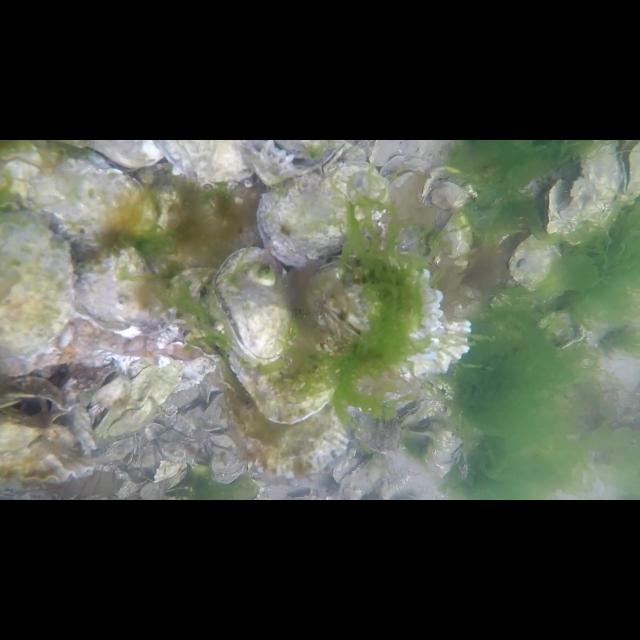Oyster-Closed: (258, 162, 384, 268), (0, 216, 81, 374), (4, 157, 158, 237), (216, 242, 298, 362), (73, 243, 171, 335), (236, 140, 346, 184), (509, 240, 558, 292), (428, 208, 474, 258), (396, 403, 426, 425)
Oyster-Indeterminate: (308, 264, 472, 378), (234, 369, 350, 479), (230, 314, 346, 424), (546, 140, 624, 234), (96, 360, 184, 438), (150, 140, 258, 184), (0, 436, 94, 482), (346, 404, 400, 454), (423, 165, 472, 208), (340, 458, 384, 500), (208, 435, 246, 483), (0, 415, 44, 453), (199, 392, 233, 431)
Oyster-Open: (0, 376, 70, 426), (618, 140, 640, 196), (382, 165, 420, 192), (402, 421, 433, 435)
